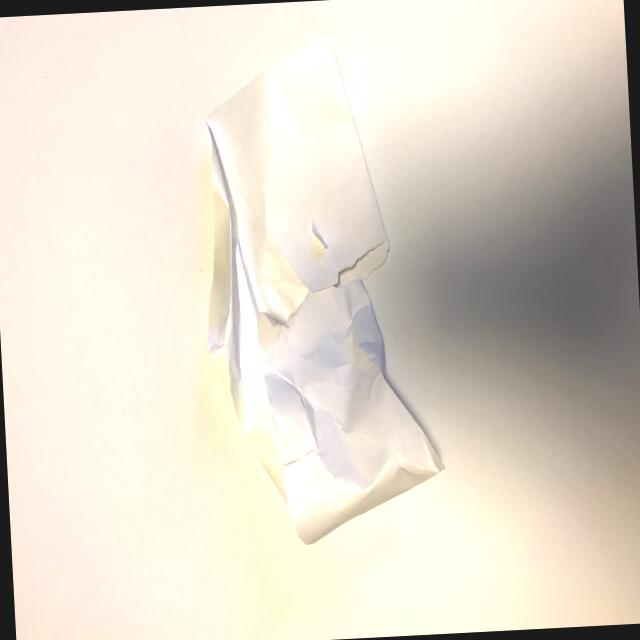Paper: (174, 0, 475, 567)
